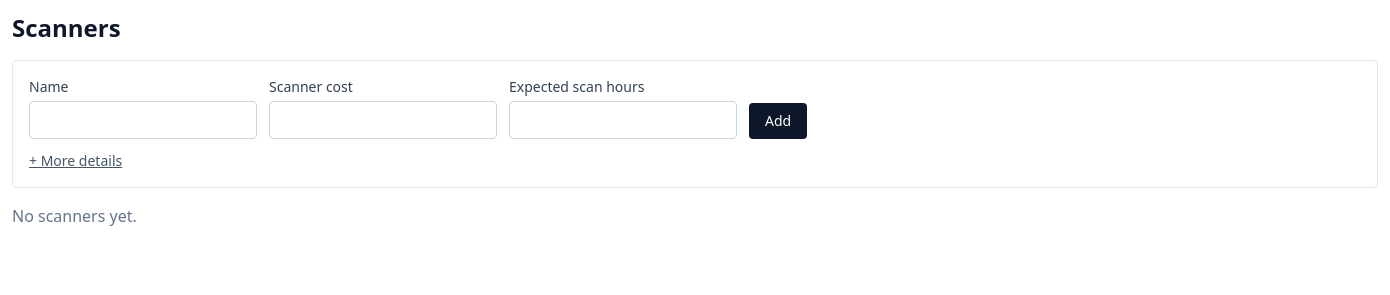
it: ScannersListPage — inline add form › creates a scanner via the essentials-only form and shows the new row without a manual refetch
Expected: the text "No scanners yet." is shown, [12,205,137,227]
Type "Handheld scanner" into the field labelled "Name". click: [143, 120]
box: [29,101,257,139]
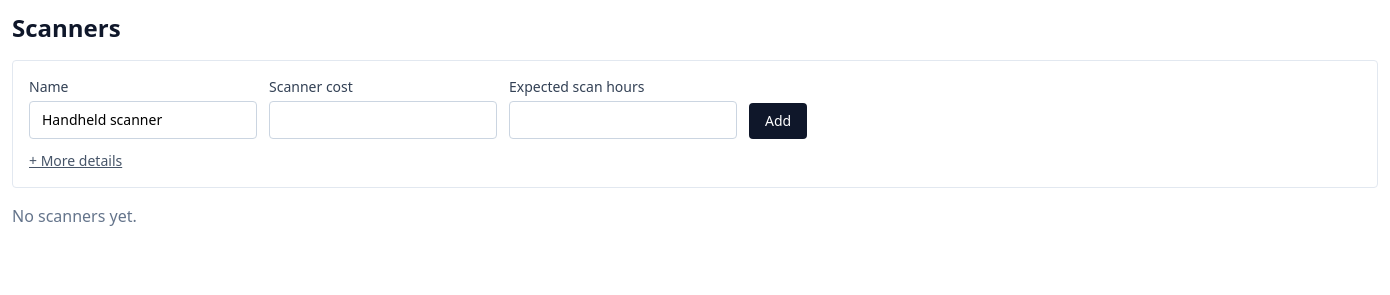
Type "6000" into the number field labelled "Scanner cost". click: [383, 120]
box: [269,101,497,139]
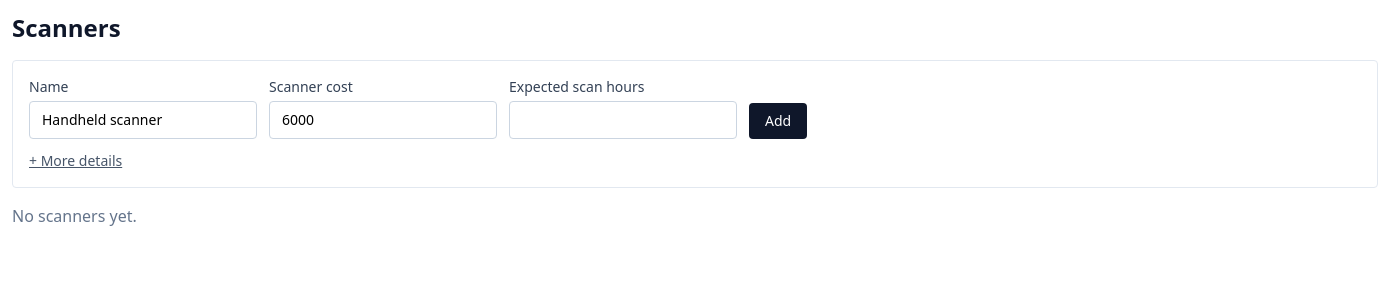
Type "1000" into the number field labelled "Expected scan hours". click: [623, 120]
box: [509,101,737,139]
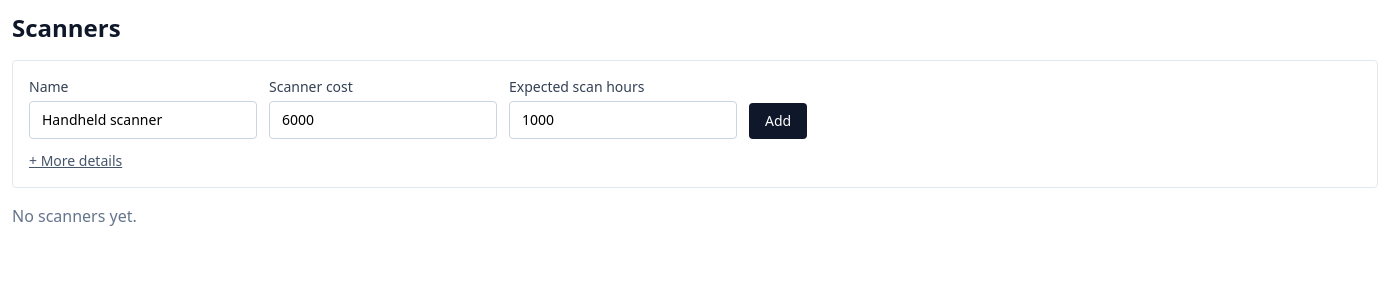
Click the button "Add". click: [778, 121]
box: [749,103,807,139]
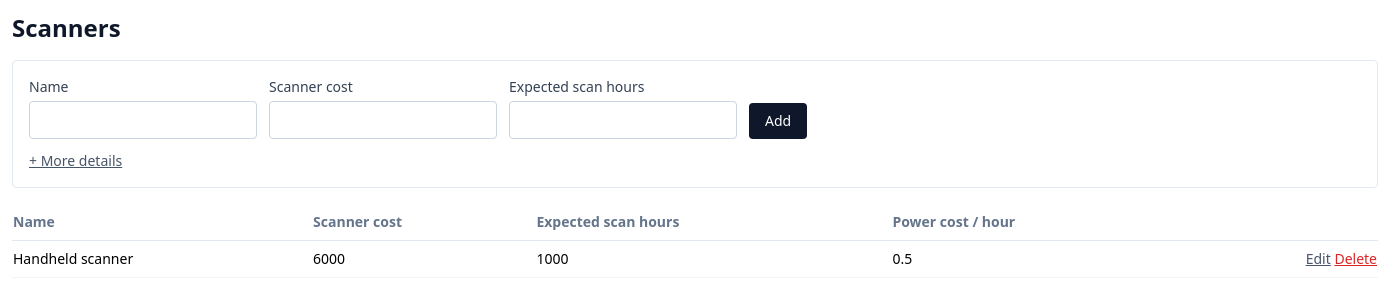
Now the text "Handheld scanner" is shown, box [12,240,312,278]
